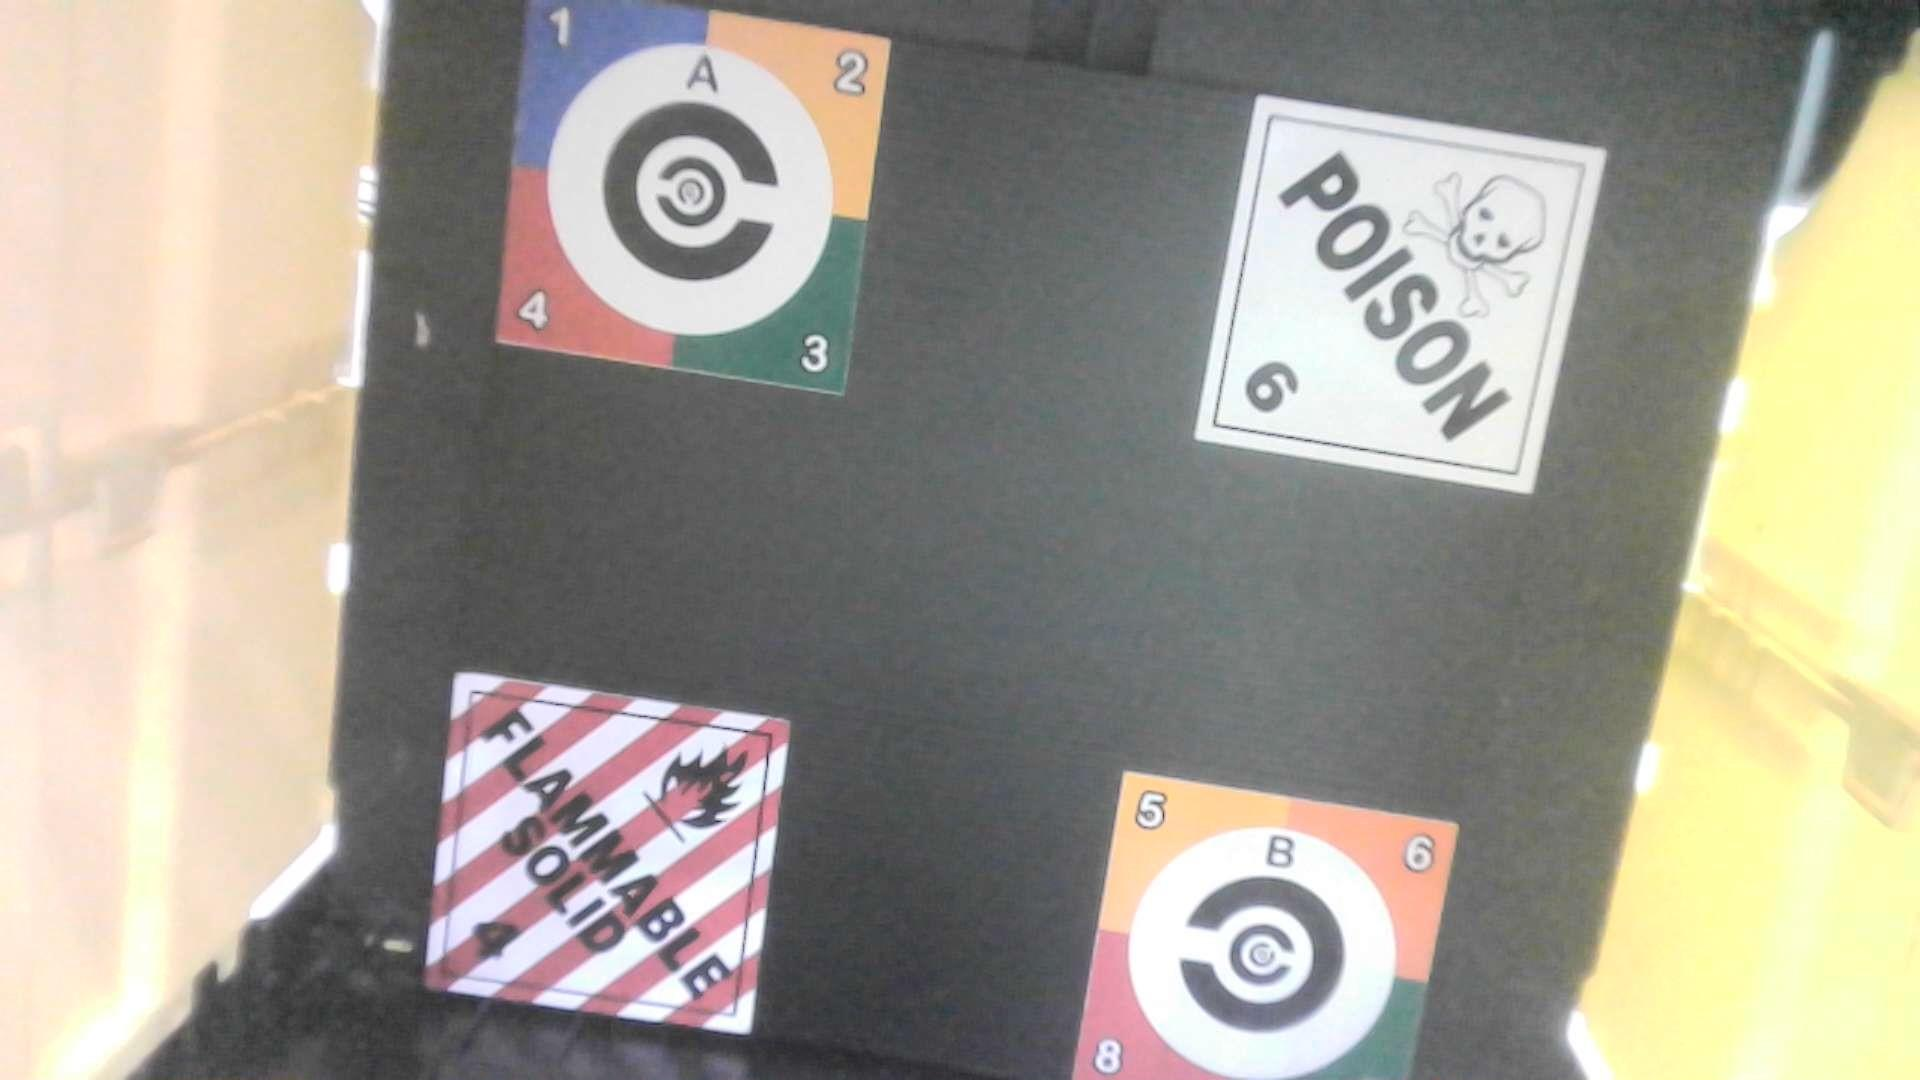flammable-solid: (427, 669, 794, 1036)
poison: (1192, 98, 1615, 506)
